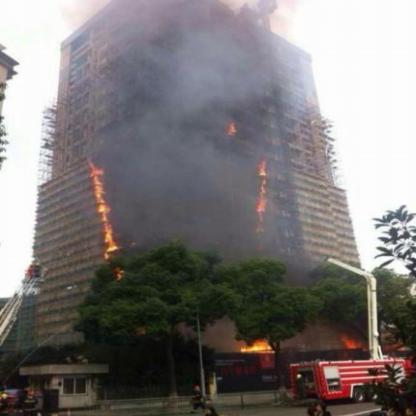fire: (225, 114, 274, 241), (88, 166, 137, 281), (233, 332, 271, 358)
smoke: (108, 6, 239, 240)
